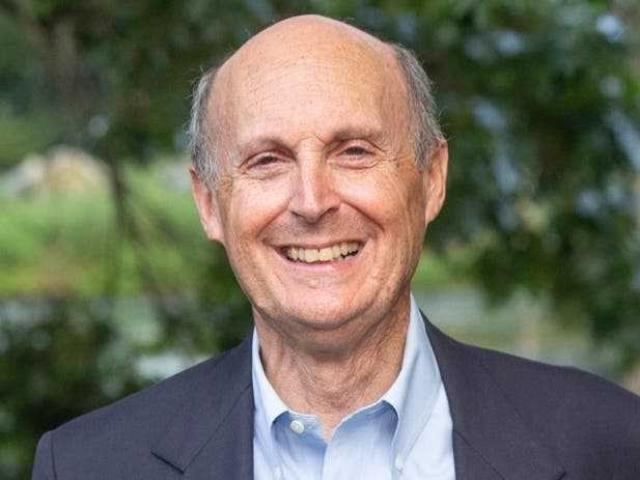frown_line: (311, 131, 325, 147)
gummy_smile: (248, 202, 290, 236), (344, 200, 388, 230)
